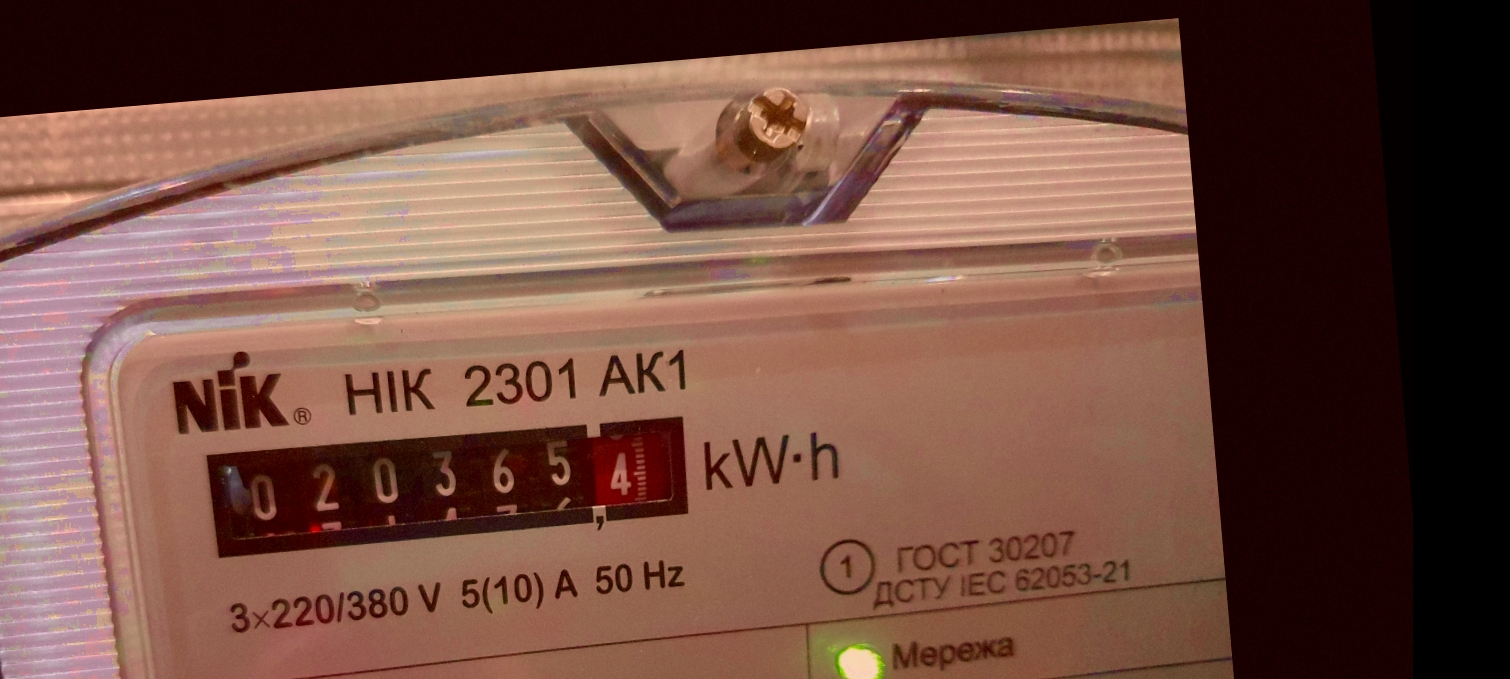0: (244, 468, 282, 525), (369, 454, 402, 506)
2: (307, 460, 342, 513)
3: (428, 448, 460, 499)
4: (605, 448, 632, 498)
5: (544, 438, 575, 487)
6: (487, 443, 517, 496)
screen: (191, 396, 708, 575)
